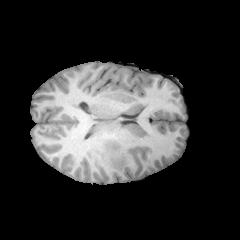glioma: (100, 139, 136, 173)
